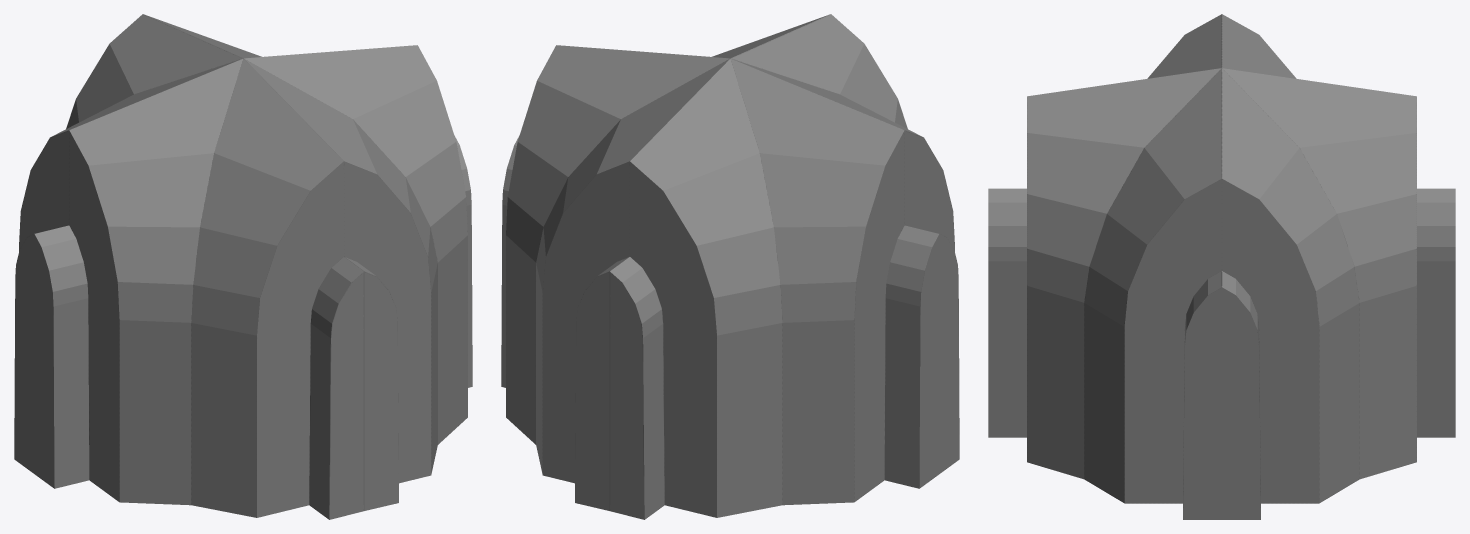
The model's file is TutArenaWalls.fbx.
The picture shows the model from 3 angles, left to right: view 1: azimuth 30°, elevation 25°; view 2: azimuth 150°, elevation 25°; view 3: azimuth 270°, elevation 25°; orthographic projection. The views are drawn at different scales.
Parts seen in each view (by area): view 1: Arches; view 2: Arches; view 3: Arches.
Part boxes in pixels (bbox=[...]): Arches: bbox=[14, 14, 472, 519]; Arches: bbox=[501, 14, 959, 519]; Arches: bbox=[988, 14, 1455, 519].
Bounding box in the file's own units: 12 × 12 × 10.
